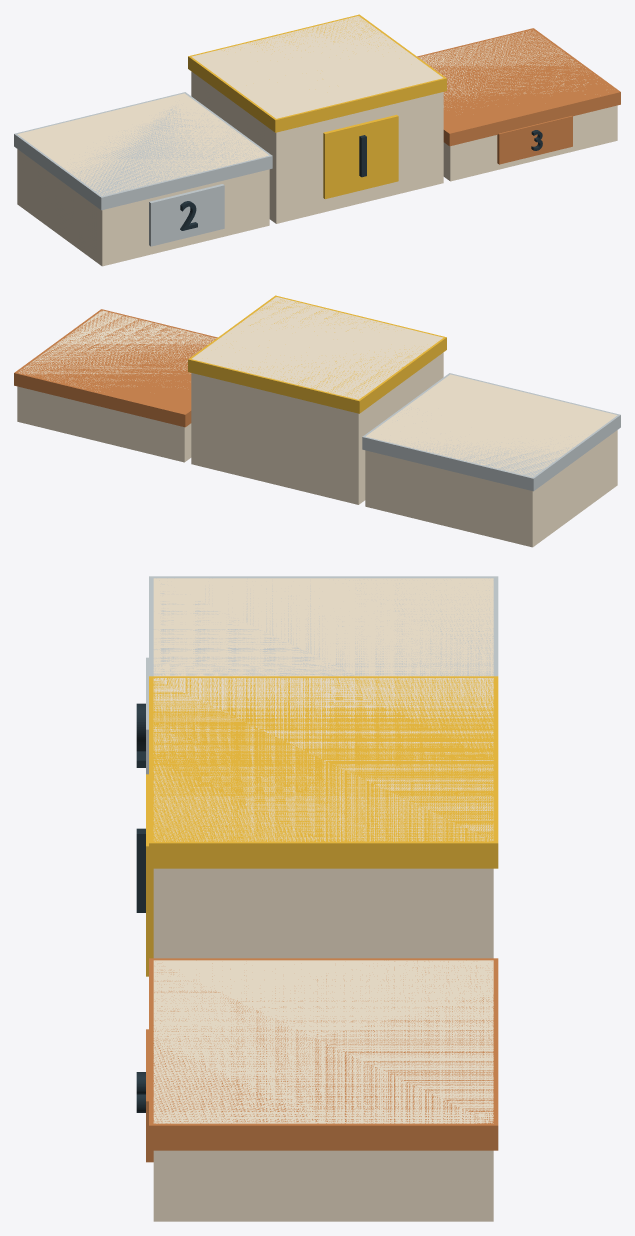
Rendered from podium_r35_backup.glb.
The picture shows the model from 3 angles, top to bottom: view 1: azimuth 30°, elevation 25°; view 2: azimuth 150°, elevation 25°; view 3: azimuth 270°, elevation 25°; orthographic projection. The views are drawn at different scales.
Parts seen in each view (by area): view 1: Podium; view 2: Podium; view 3: Podium.
Part boxes in pixels (box(x1,y1,x2,y2)): Podium: box(14, 14, 620, 266); Podium: box(14, 295, 620, 547); Podium: box(136, 576, 498, 1221).
Bounding box in the file's own units: 7.76 × 1.5 × 2.34.
